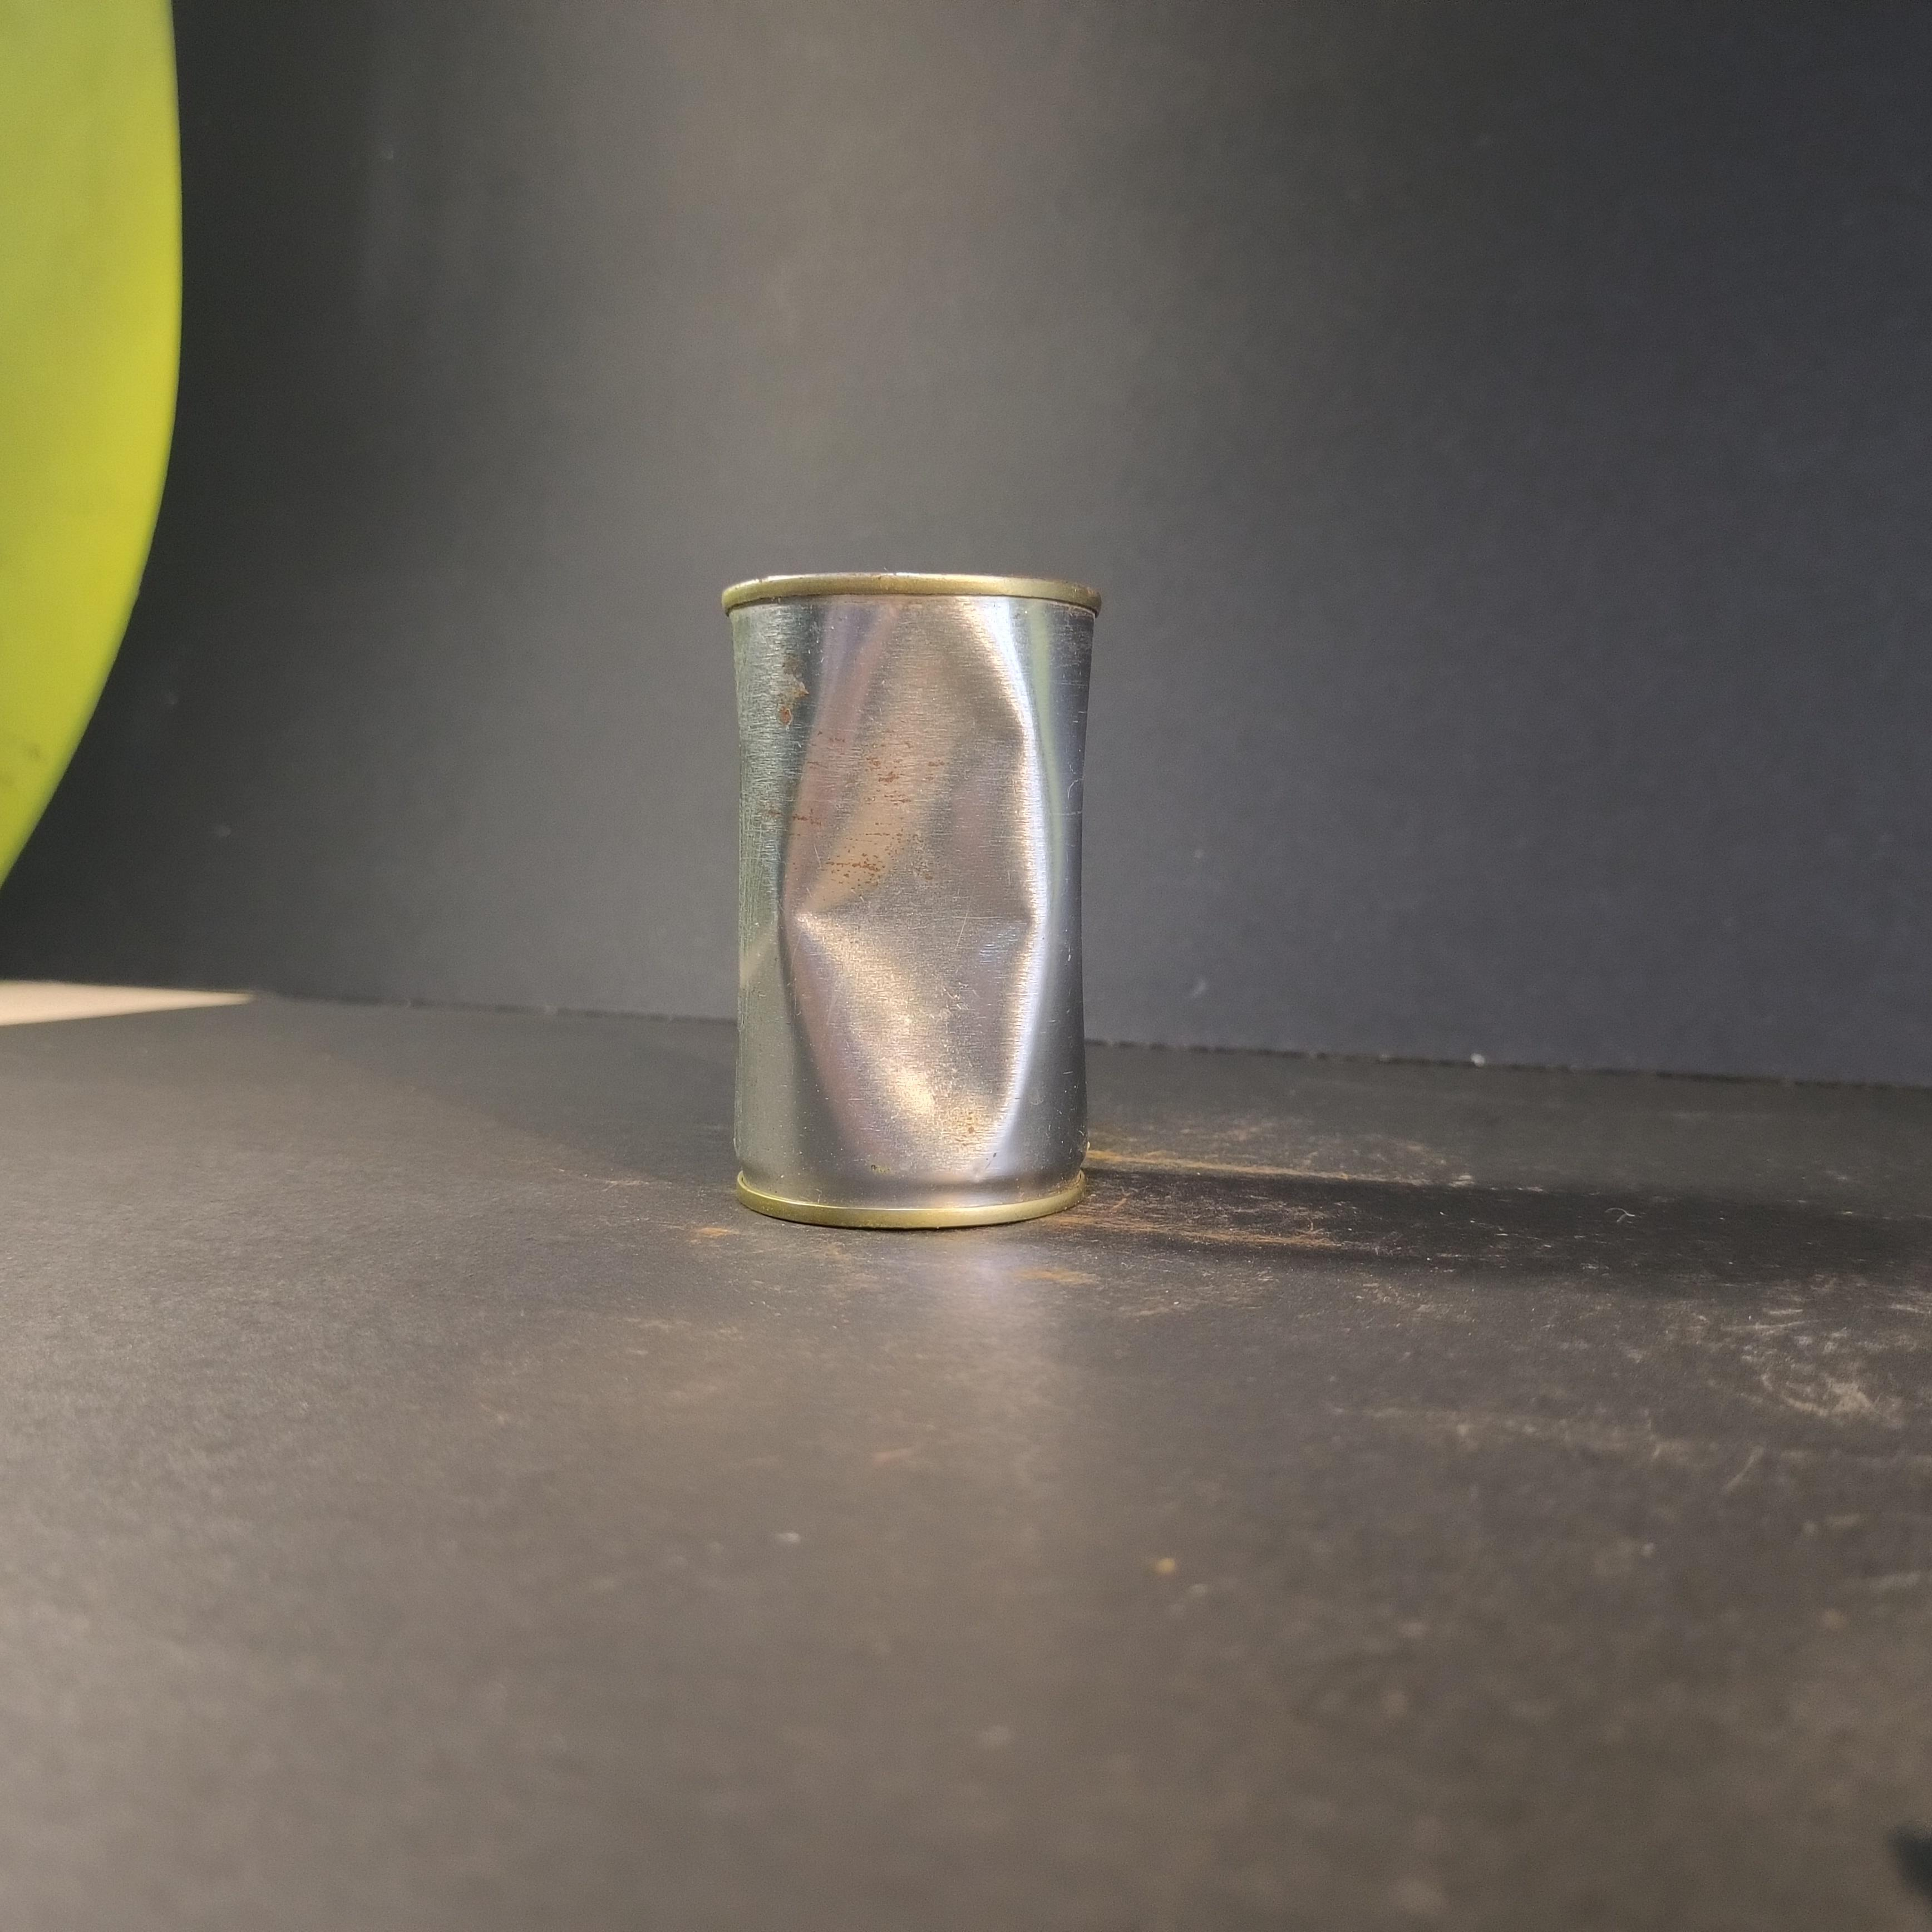Dented: (693, 540, 1110, 1255)
